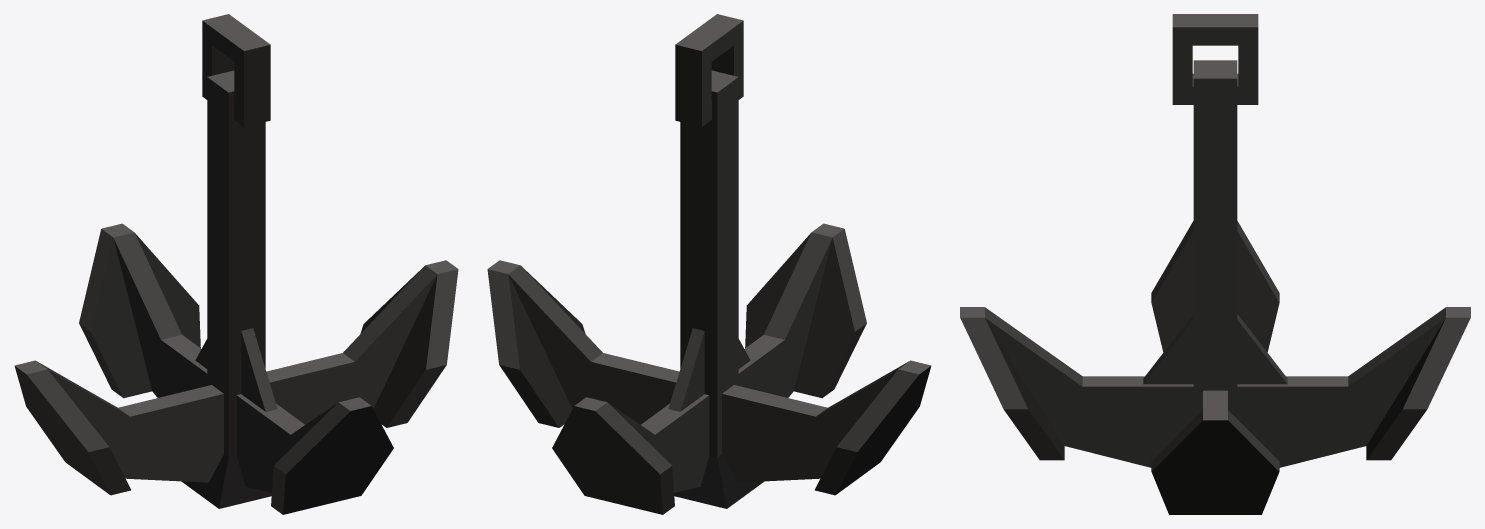
File: Anchor001.fbx
The picture shows the model from 3 angles, left to right: view 1: azimuth 30°, elevation 25°; view 2: azimuth 150°, elevation 25°; view 3: azimuth 270°, elevation 25°; orthographic projection. The views are drawn at different scales.
Visible parts, largest first — view 1: Ancor; view 2: Ancor; view 3: Ancor.
Boxes of the visible parts, <box> form: Ancor: <box>14,14,458,514</box>; Ancor: <box>487,14,931,514</box>; Ancor: <box>960,14,1470,514</box>.
Bounding box in the file's own units: 147 × 146 × 147.
